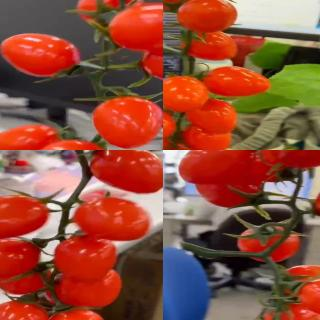tomato: (2, 30, 85, 77), (94, 96, 163, 150), (75, 197, 154, 243), (192, 150, 284, 189), (91, 150, 163, 196), (54, 235, 118, 283), (54, 267, 122, 310), (108, 2, 163, 53), (200, 64, 273, 100), (238, 226, 302, 265), (177, 150, 245, 185), (0, 197, 51, 243), (73, 0, 142, 33), (174, 0, 239, 32), (175, 28, 239, 60), (196, 180, 268, 208), (163, 71, 210, 113), (187, 98, 241, 132), (0, 261, 54, 294), (0, 123, 64, 150), (0, 239, 41, 280), (183, 120, 231, 150), (136, 34, 163, 84), (267, 150, 320, 171), (262, 301, 320, 320), (23, 138, 107, 150), (0, 301, 48, 320), (299, 277, 320, 320), (45, 306, 108, 320), (163, 0, 198, 16), (163, 108, 178, 144)
